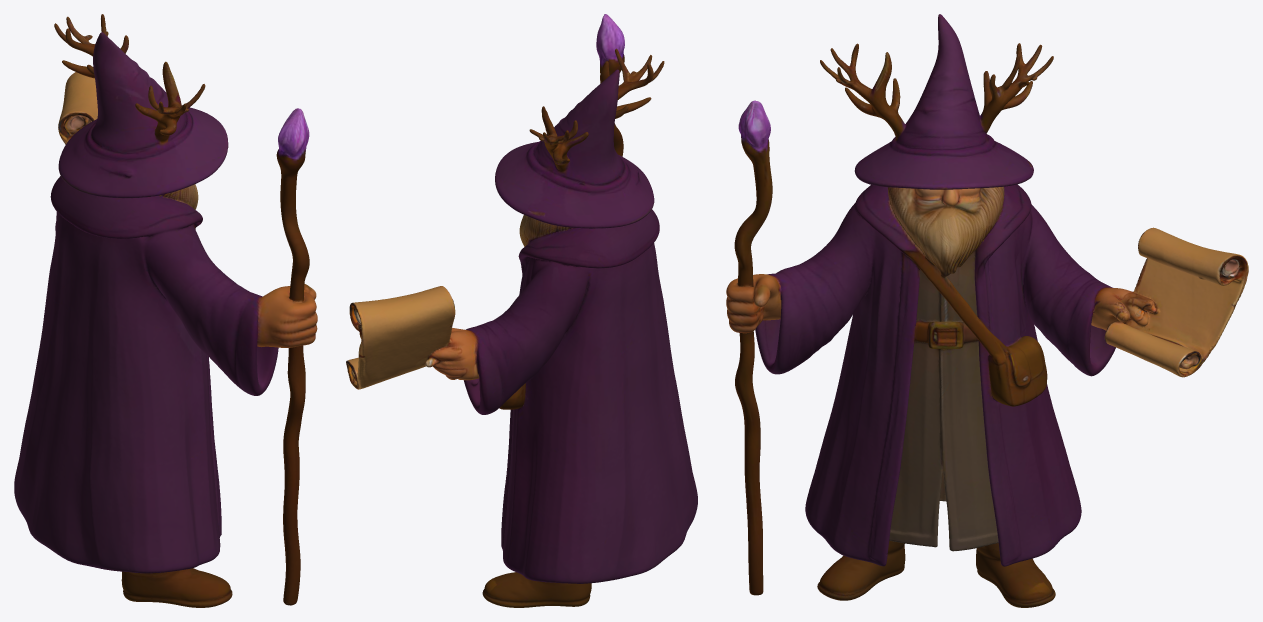
The picture shows the model from 3 angles, left to right: view 1: azimuth 30°, elevation 25°; view 2: azimuth 150°, elevation 25°; view 3: azimuth 270°, elevation 25°; orthographic projection. The views are drawn at different scales.
Parts seen in each view (by area): view 1: tripo_node_16be4663-0975-4ab4-8a9a-d7918b604a85; view 2: tripo_node_16be4663-0975-4ab4-8a9a-d7918b604a85; view 3: tripo_node_16be4663-0975-4ab4-8a9a-d7918b604a85.
Boxes of the visible parts, x1,y1,x2,y2 form: tripo_node_16be4663-0975-4ab4-8a9a-d7918b604a85: (14,14,317,607); tripo_node_16be4663-0975-4ab4-8a9a-d7918b604a85: (346,14,697,607); tripo_node_16be4663-0975-4ab4-8a9a-d7918b604a85: (726,14,1248,607).
Bounding box in the file's own units: 0.4255 × 1 × 0.858.
1 material, 1 textured.
